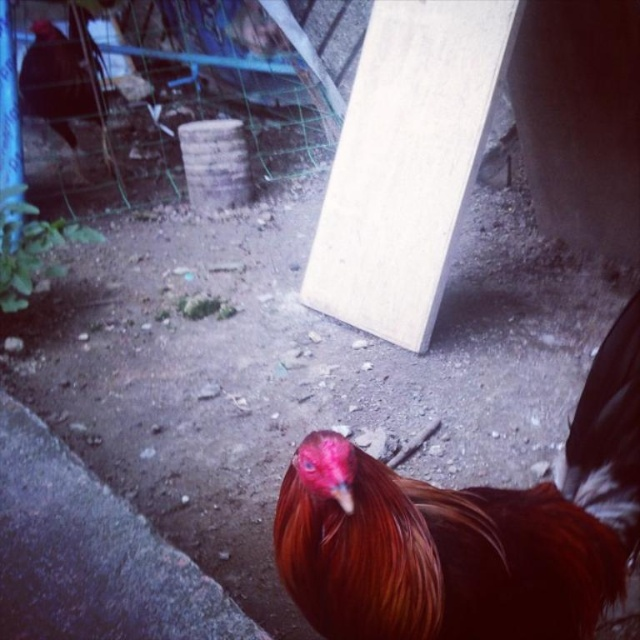Chicken: (268, 292, 639, 639)
